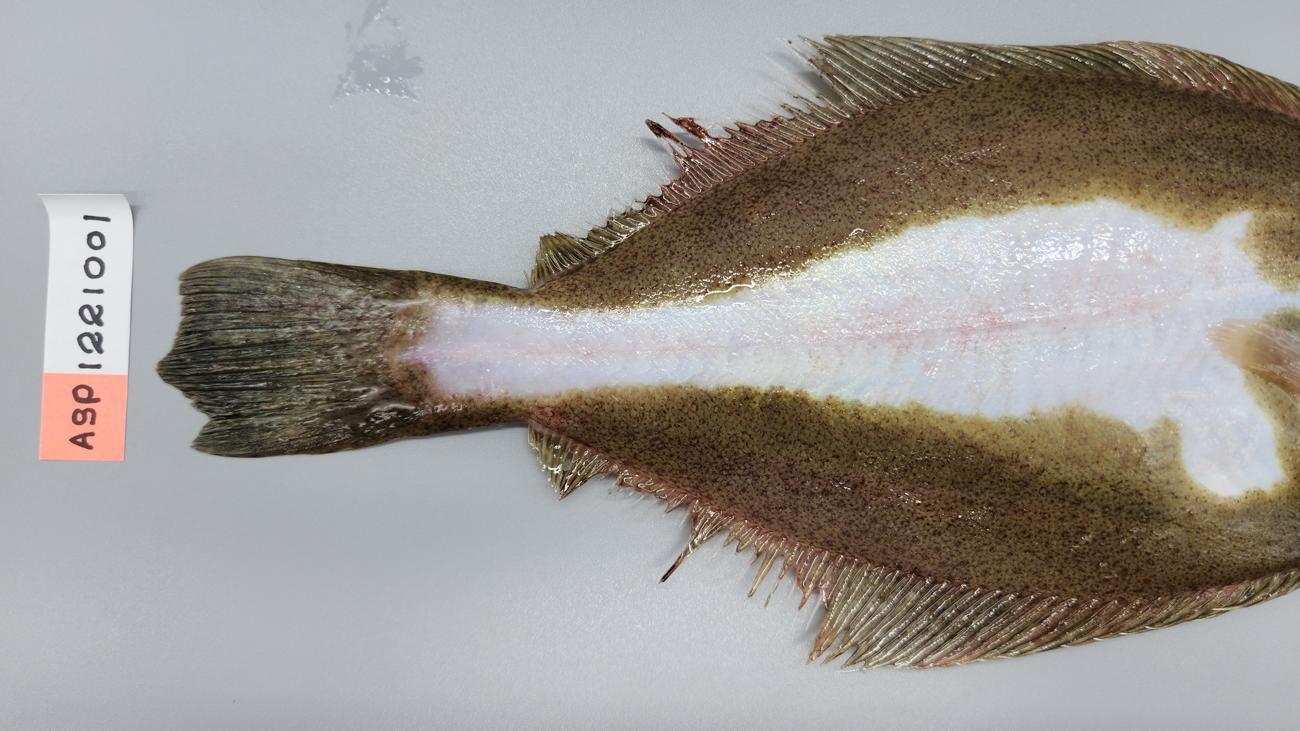SPFCH: (248, 387, 408, 458)
SPFDH: (617, 41, 892, 218), (1113, 39, 1299, 118)
